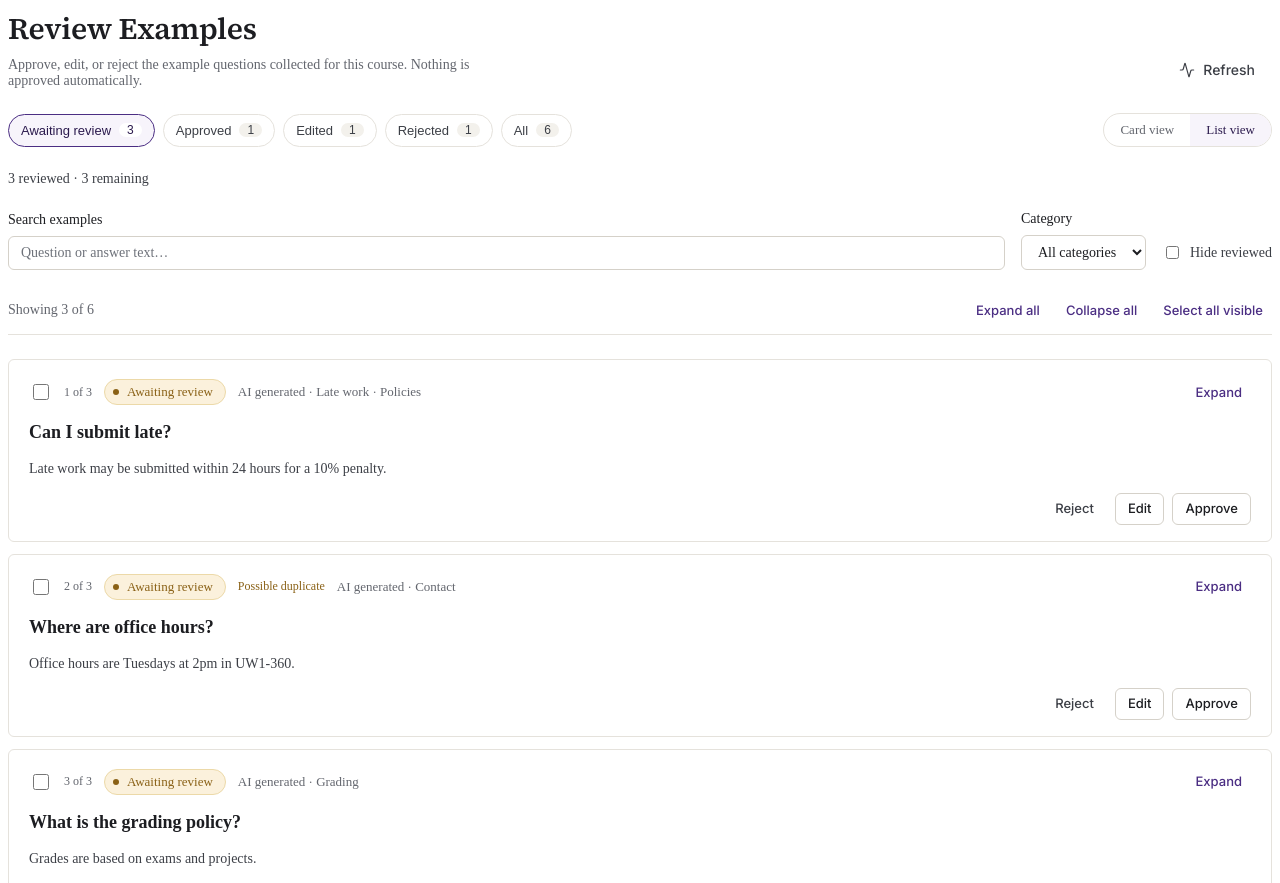
ReviewExamplesPage list view › view modes › toggles to card view and back
Check: the text "Can I submit late?" is shown, box [29,422,172,442]
Click the button "Card view".
click(1147, 130)  # box [1104,114,1190,146]
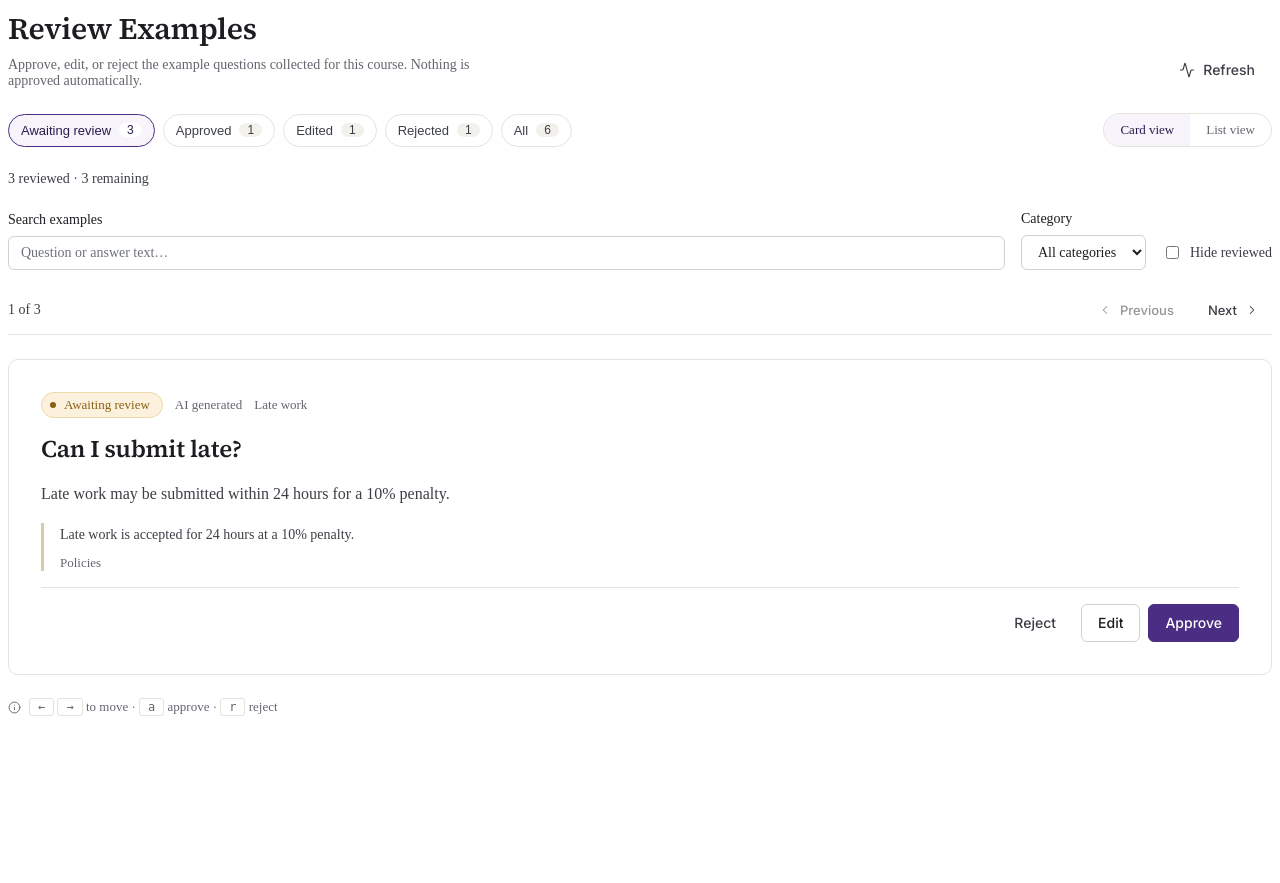
Check: the element with class "review-card" is shown, box [8,359,1272,675]
Check: the button "Next" is shown, box [1195,294,1272,326]
Click the button "List view".
click(1231, 130)  # box [1190,114,1271,146]
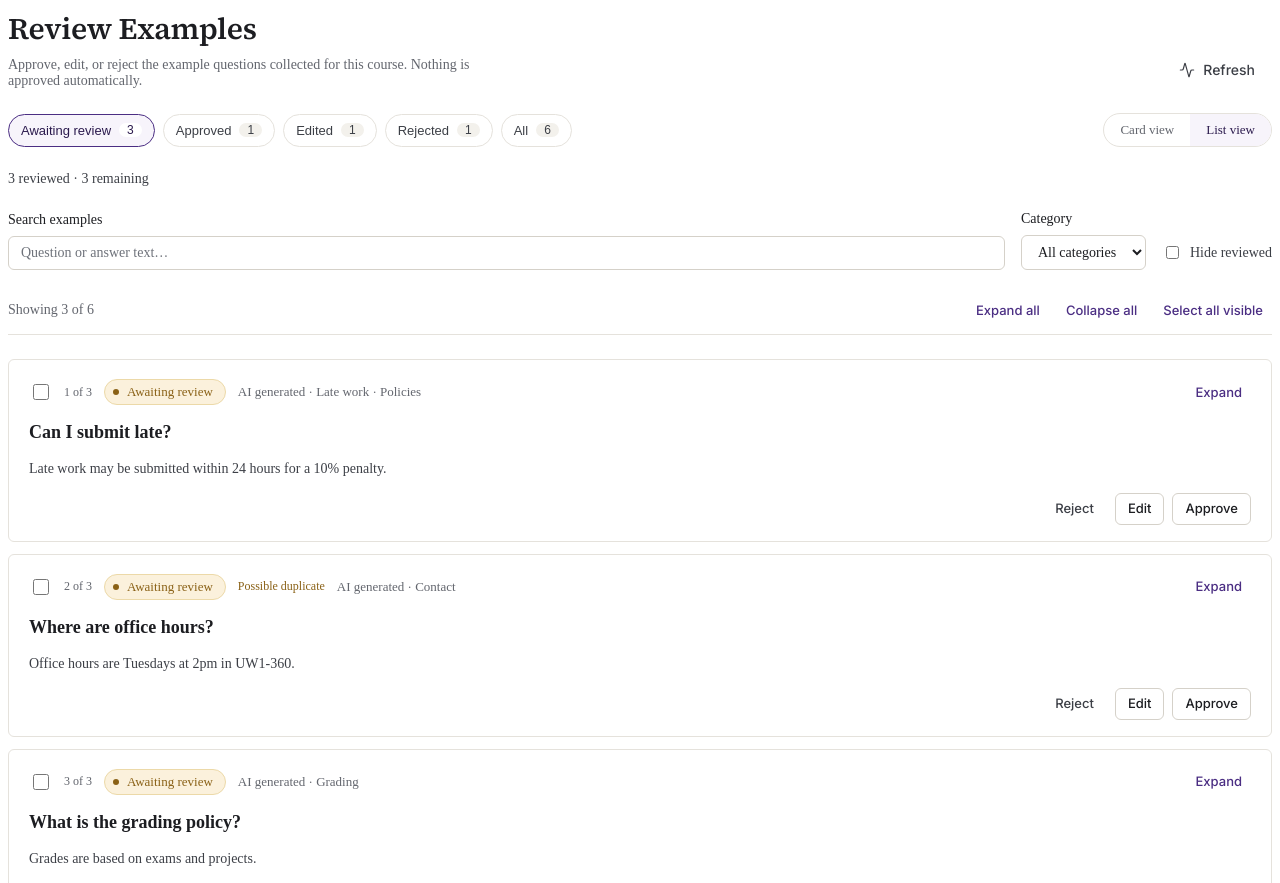
Check: the element with class "review-card" is gone
